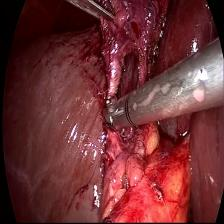Clipper: (100, 82, 137, 133)
Grasper: (66, 0, 113, 30)
